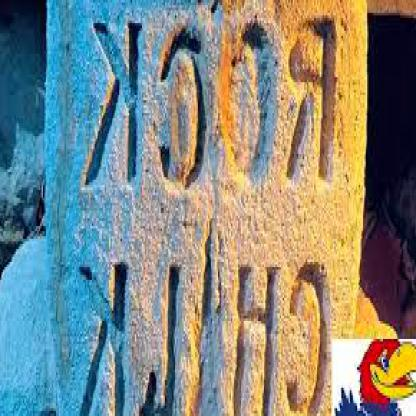Sedimentary_Chalk: (55, 0, 366, 414), (1, 239, 42, 413)
